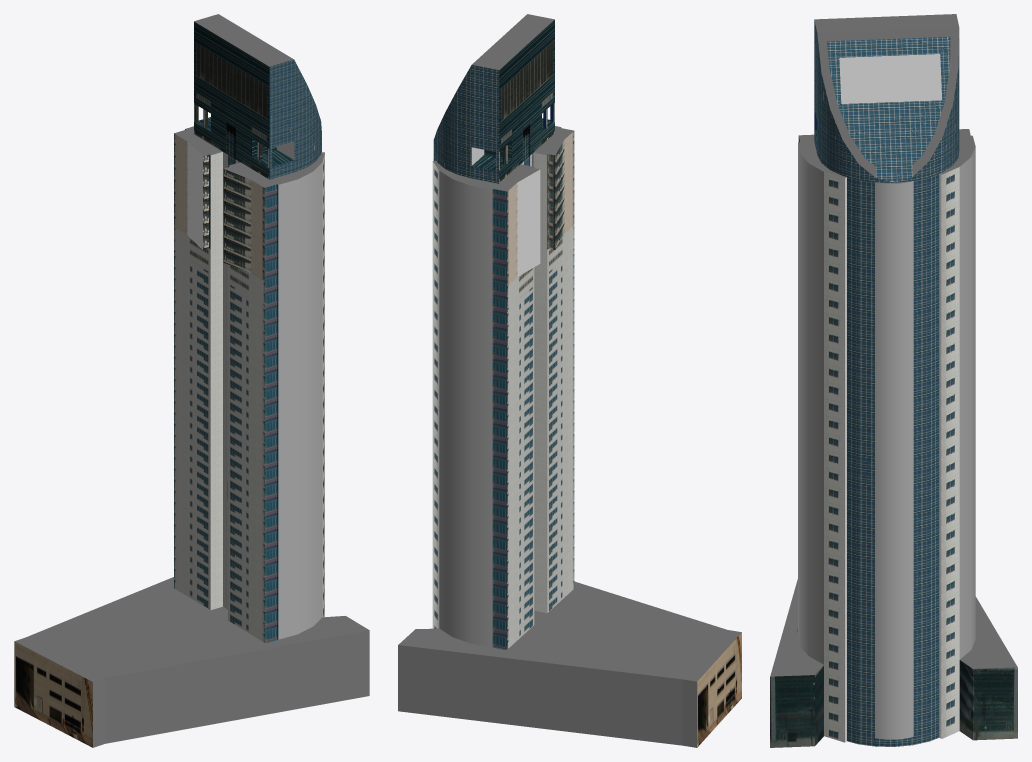
Rendered from BueFixe.fbx.
3 renders of one model, left to right at view 1: azimuth 30°, elevation 25°; view 2: azimuth 150°, elevation 25°; view 3: azimuth 270°, elevation 25°, orthographic. The views are drawn at different scales.
Parts seen in each view (by area): view 1: Model; view 2: Model; view 3: Model.
Boxes of the visible parts, bbox=[...] form: Model: bbox=[14, 14, 369, 747]; Model: bbox=[398, 14, 741, 747]; Model: bbox=[770, 14, 1017, 747].
Size of what is drawn, in the model's own units: 85.03 by 185 by 60.58.
